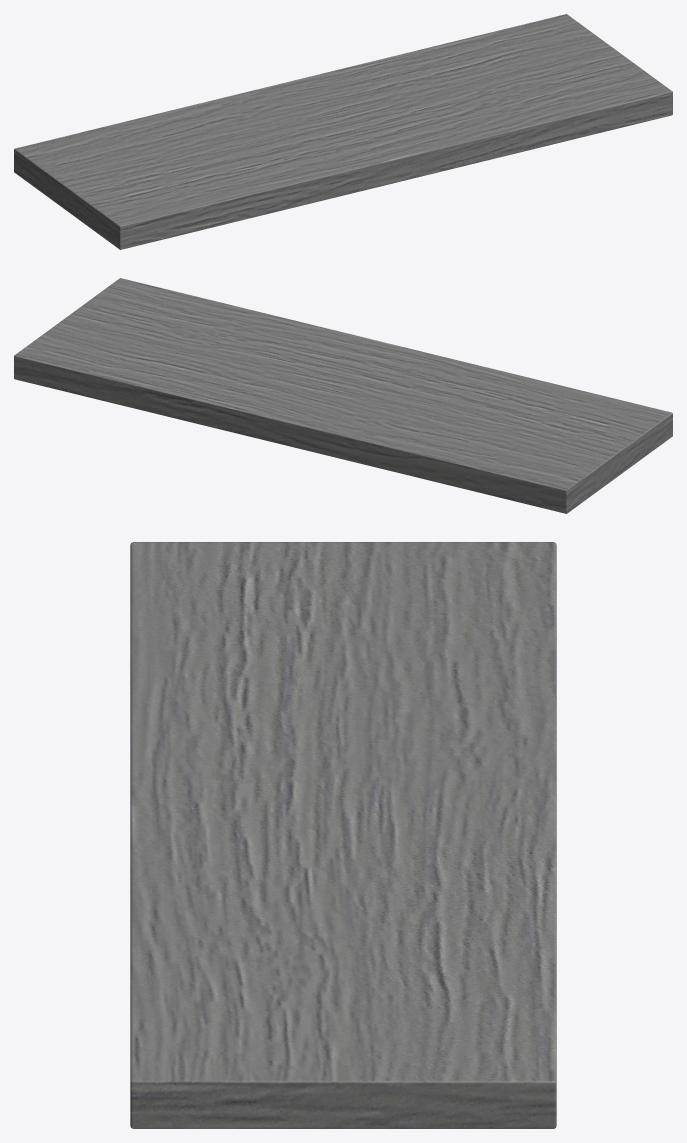
Rendered from BalconyBlock001.obj.
The picture shows the model from 3 angles, top to bottom: view 1: azimuth 30°, elevation 25°; view 2: azimuth 150°, elevation 25°; view 3: azimuth 270°, elevation 25°; orthographic projection. The views are drawn at different scales.
Visible parts, largest first — view 1: pCube1; view 2: pCube1; view 3: pCube1.
Boxes of the visible parts, left/top/right/bottom form: pCube1: left=14, top=14, right=672, bottom=249; pCube1: left=14, top=278, right=672, bottom=513; pCube1: left=130, top=542, right=556, bottom=1128.
Size of the model in its own units: 600 by 25 by 200.
2 materials, 2 textured.
